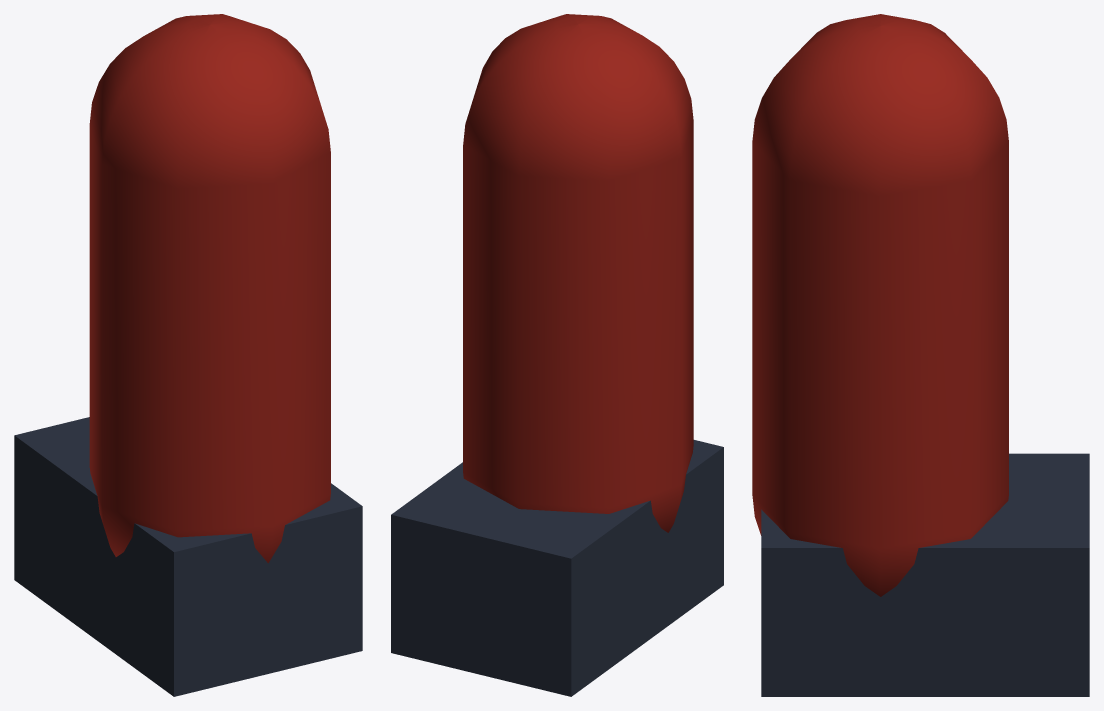
Rendered from original_red_leg.glb.
3 views of the same model, side by side, from view 1: azimuth 30°, elevation 25°; view 2: azimuth 150°, elevation 25°; view 3: azimuth 270°, elevation 25° (orthographic). The views are drawn at different scales.
Parts seen in each view (by area): view 1: original_red_leg; view 2: original_red_leg; view 3: original_red_leg.
Part boxes in pixels (bbox=[...]): original_red_leg: bbox=[14, 14, 362, 696]; original_red_leg: bbox=[391, 14, 723, 696]; original_red_leg: bbox=[752, 14, 1089, 696].
Size of the model in its own units: 0.172 by 0.461 by 0.226.
Materials: 1 (1 with a texture image).
